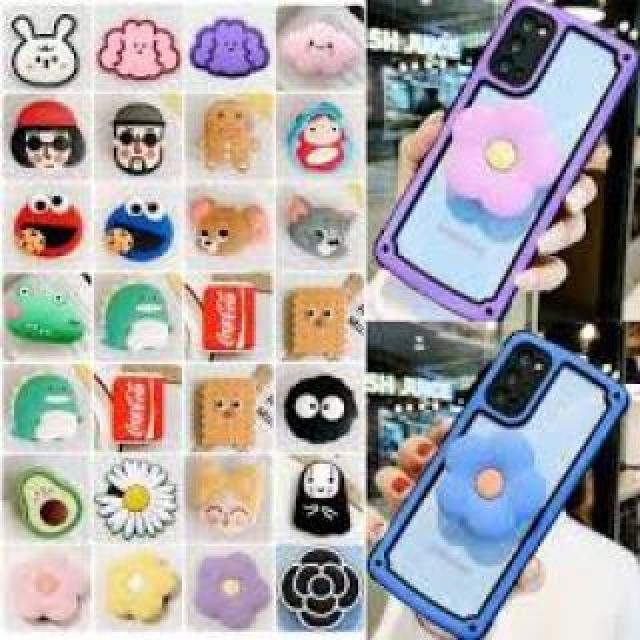smart phone: (382, 333, 618, 635), (374, 0, 594, 308)
